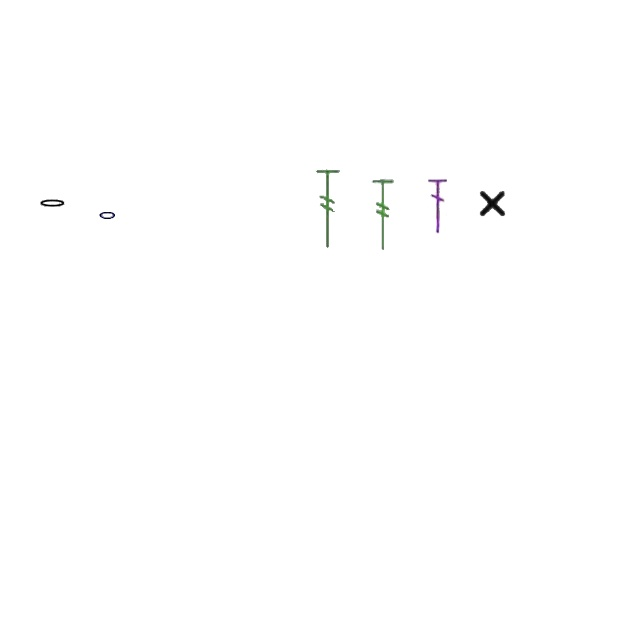chain: (428, 176, 448, 234)
half_double: (313, 166, 343, 252), (370, 178, 396, 252)
slip_stitch: (478, 186, 508, 220)
treble: (38, 198, 68, 210), (98, 208, 118, 222)
